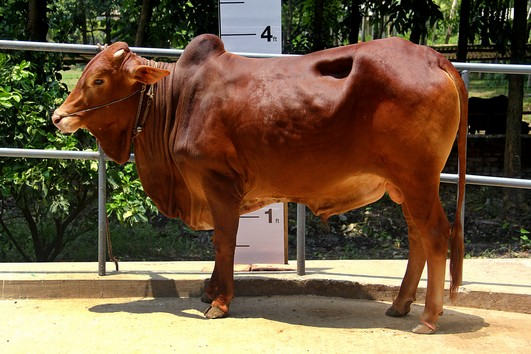cow: (50, 31, 470, 337)
